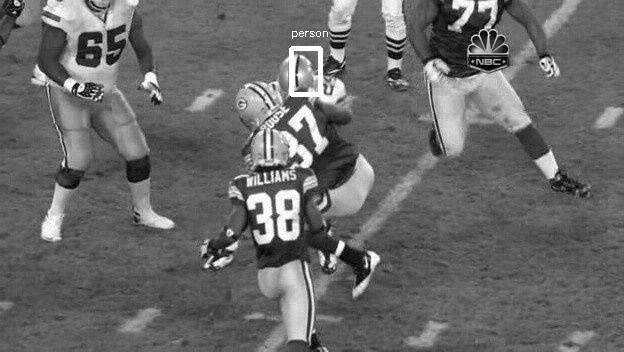person: (276, 59, 309, 101), (275, 59, 308, 101), (277, 59, 310, 101), (276, 58, 309, 100), (276, 60, 309, 102)
target_negative: (117, 127, 574, 344), (187, 262, 471, 313), (301, 323, 521, 352), (354, 228, 459, 287), (404, 319, 494, 341), (11, 323, 514, 324)
